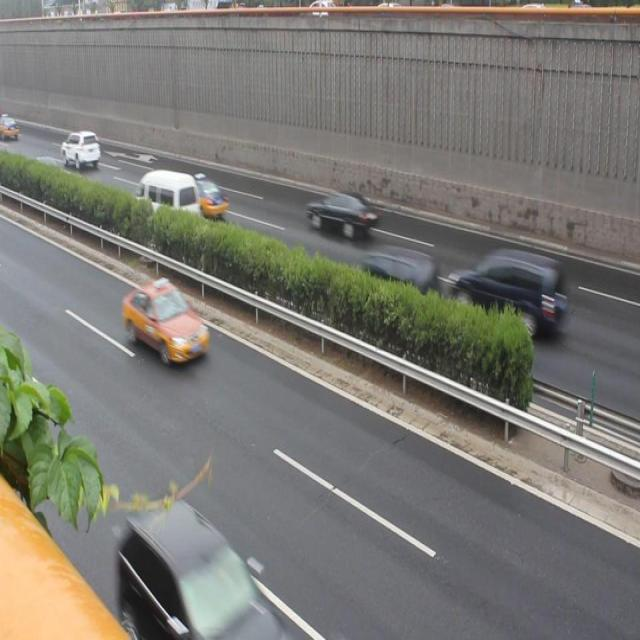car: (114, 500, 284, 640), (123, 273, 214, 365), (358, 242, 443, 314), (304, 186, 380, 241), (185, 168, 231, 221)
truck: (448, 246, 568, 345), (138, 165, 202, 231)
